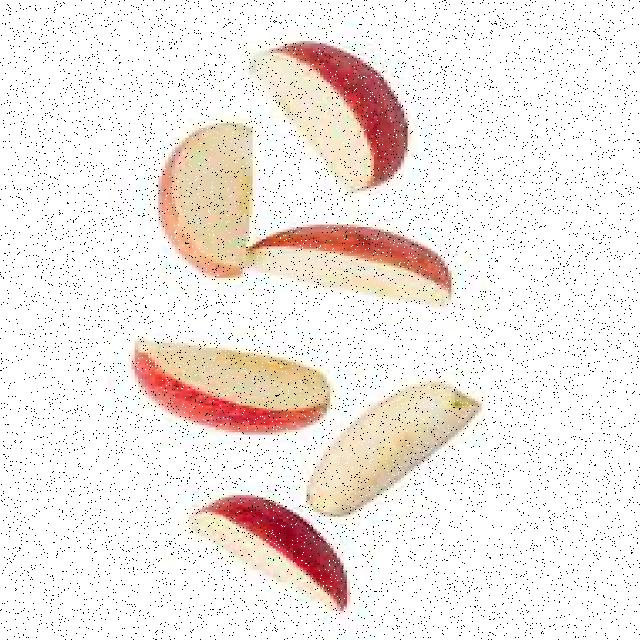Apple: (314, 382, 483, 520), (256, 43, 411, 192), (132, 350, 327, 438), (196, 501, 343, 610), (239, 234, 454, 306), (156, 125, 255, 276)
